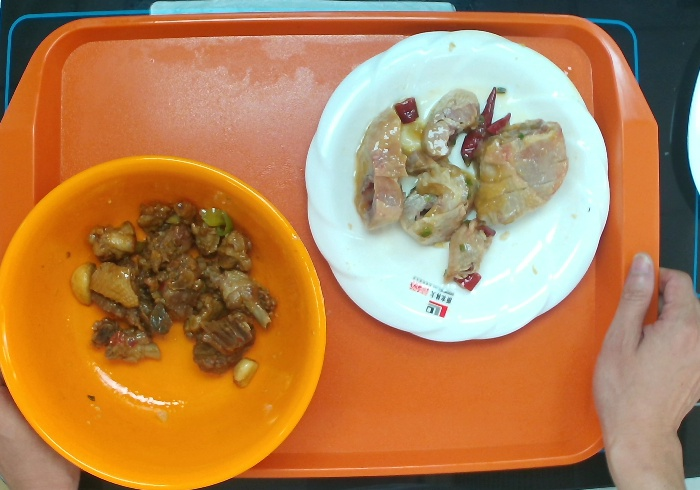ZNLD-Hua_Bian_Wan: (302, 25, 613, 347)
ZNLD-Ju_Se_Tang_Wan: (1, 153, 328, 490)
